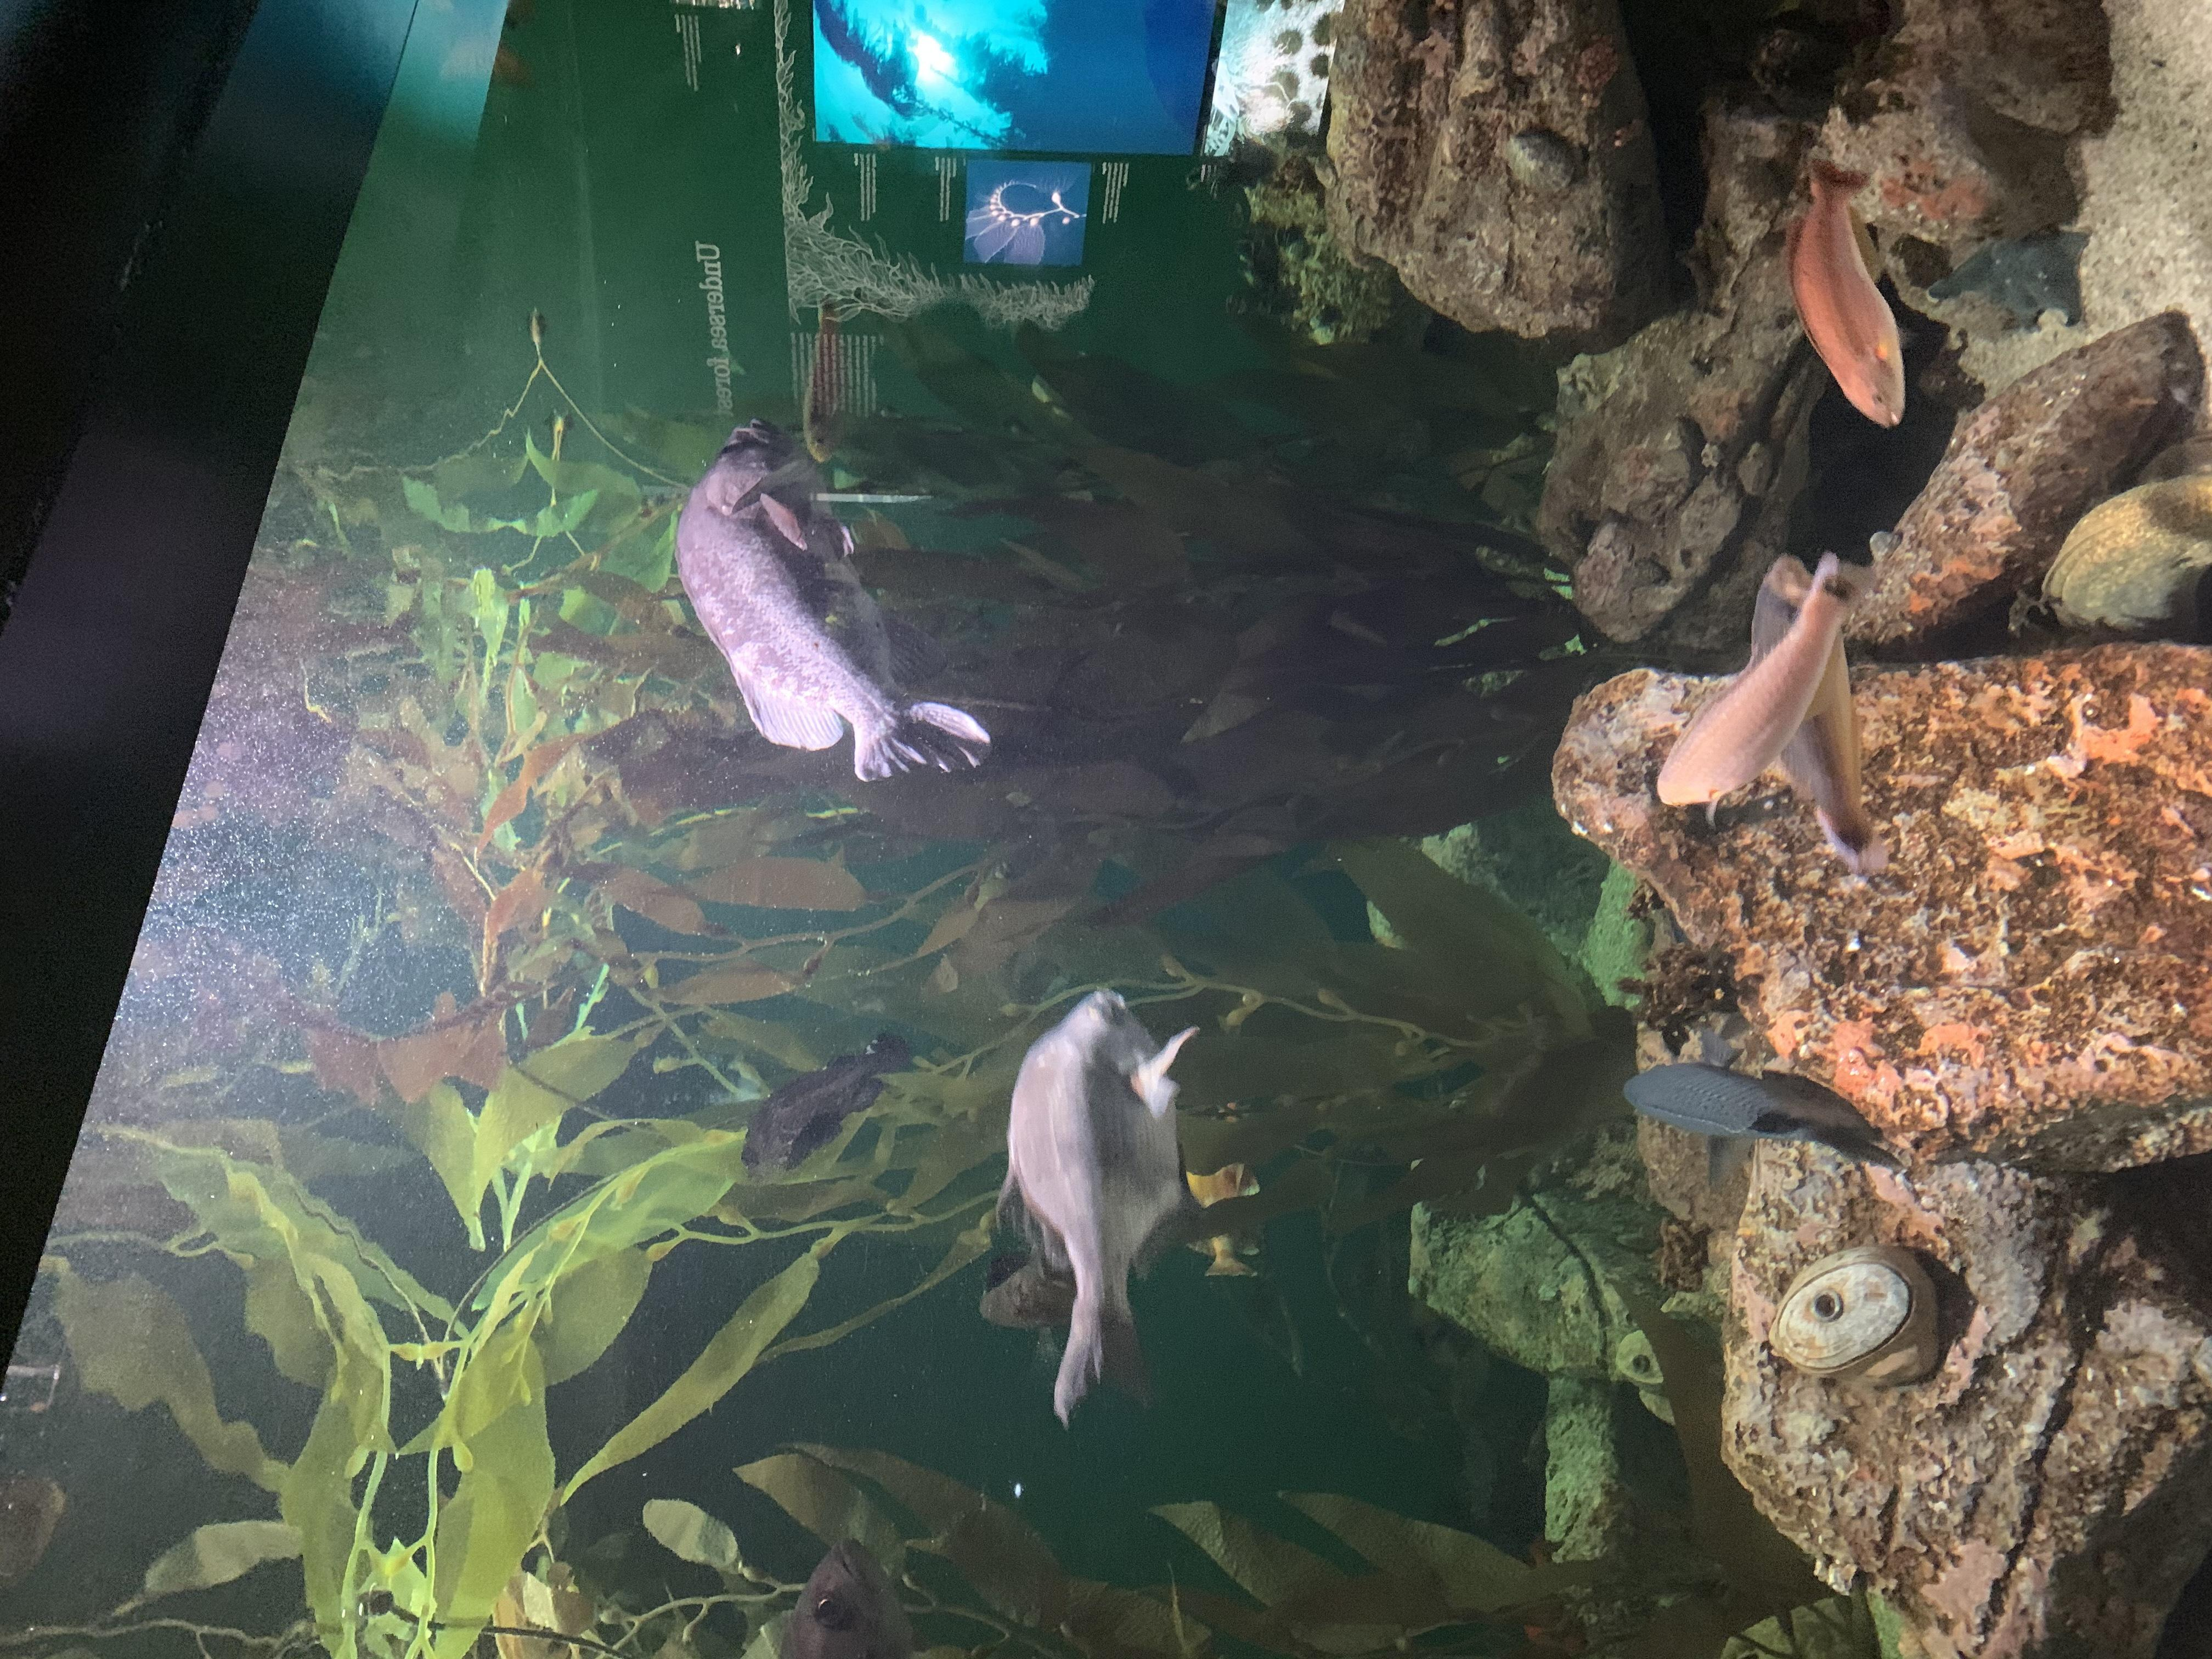fish: (664, 413, 996, 789), (981, 974, 1211, 1436), (1646, 547, 1876, 824), (1740, 556, 1893, 873), (1777, 146, 1925, 436), (1623, 1061, 1904, 1176), (726, 1030, 921, 1187), (770, 1534, 972, 1659)
